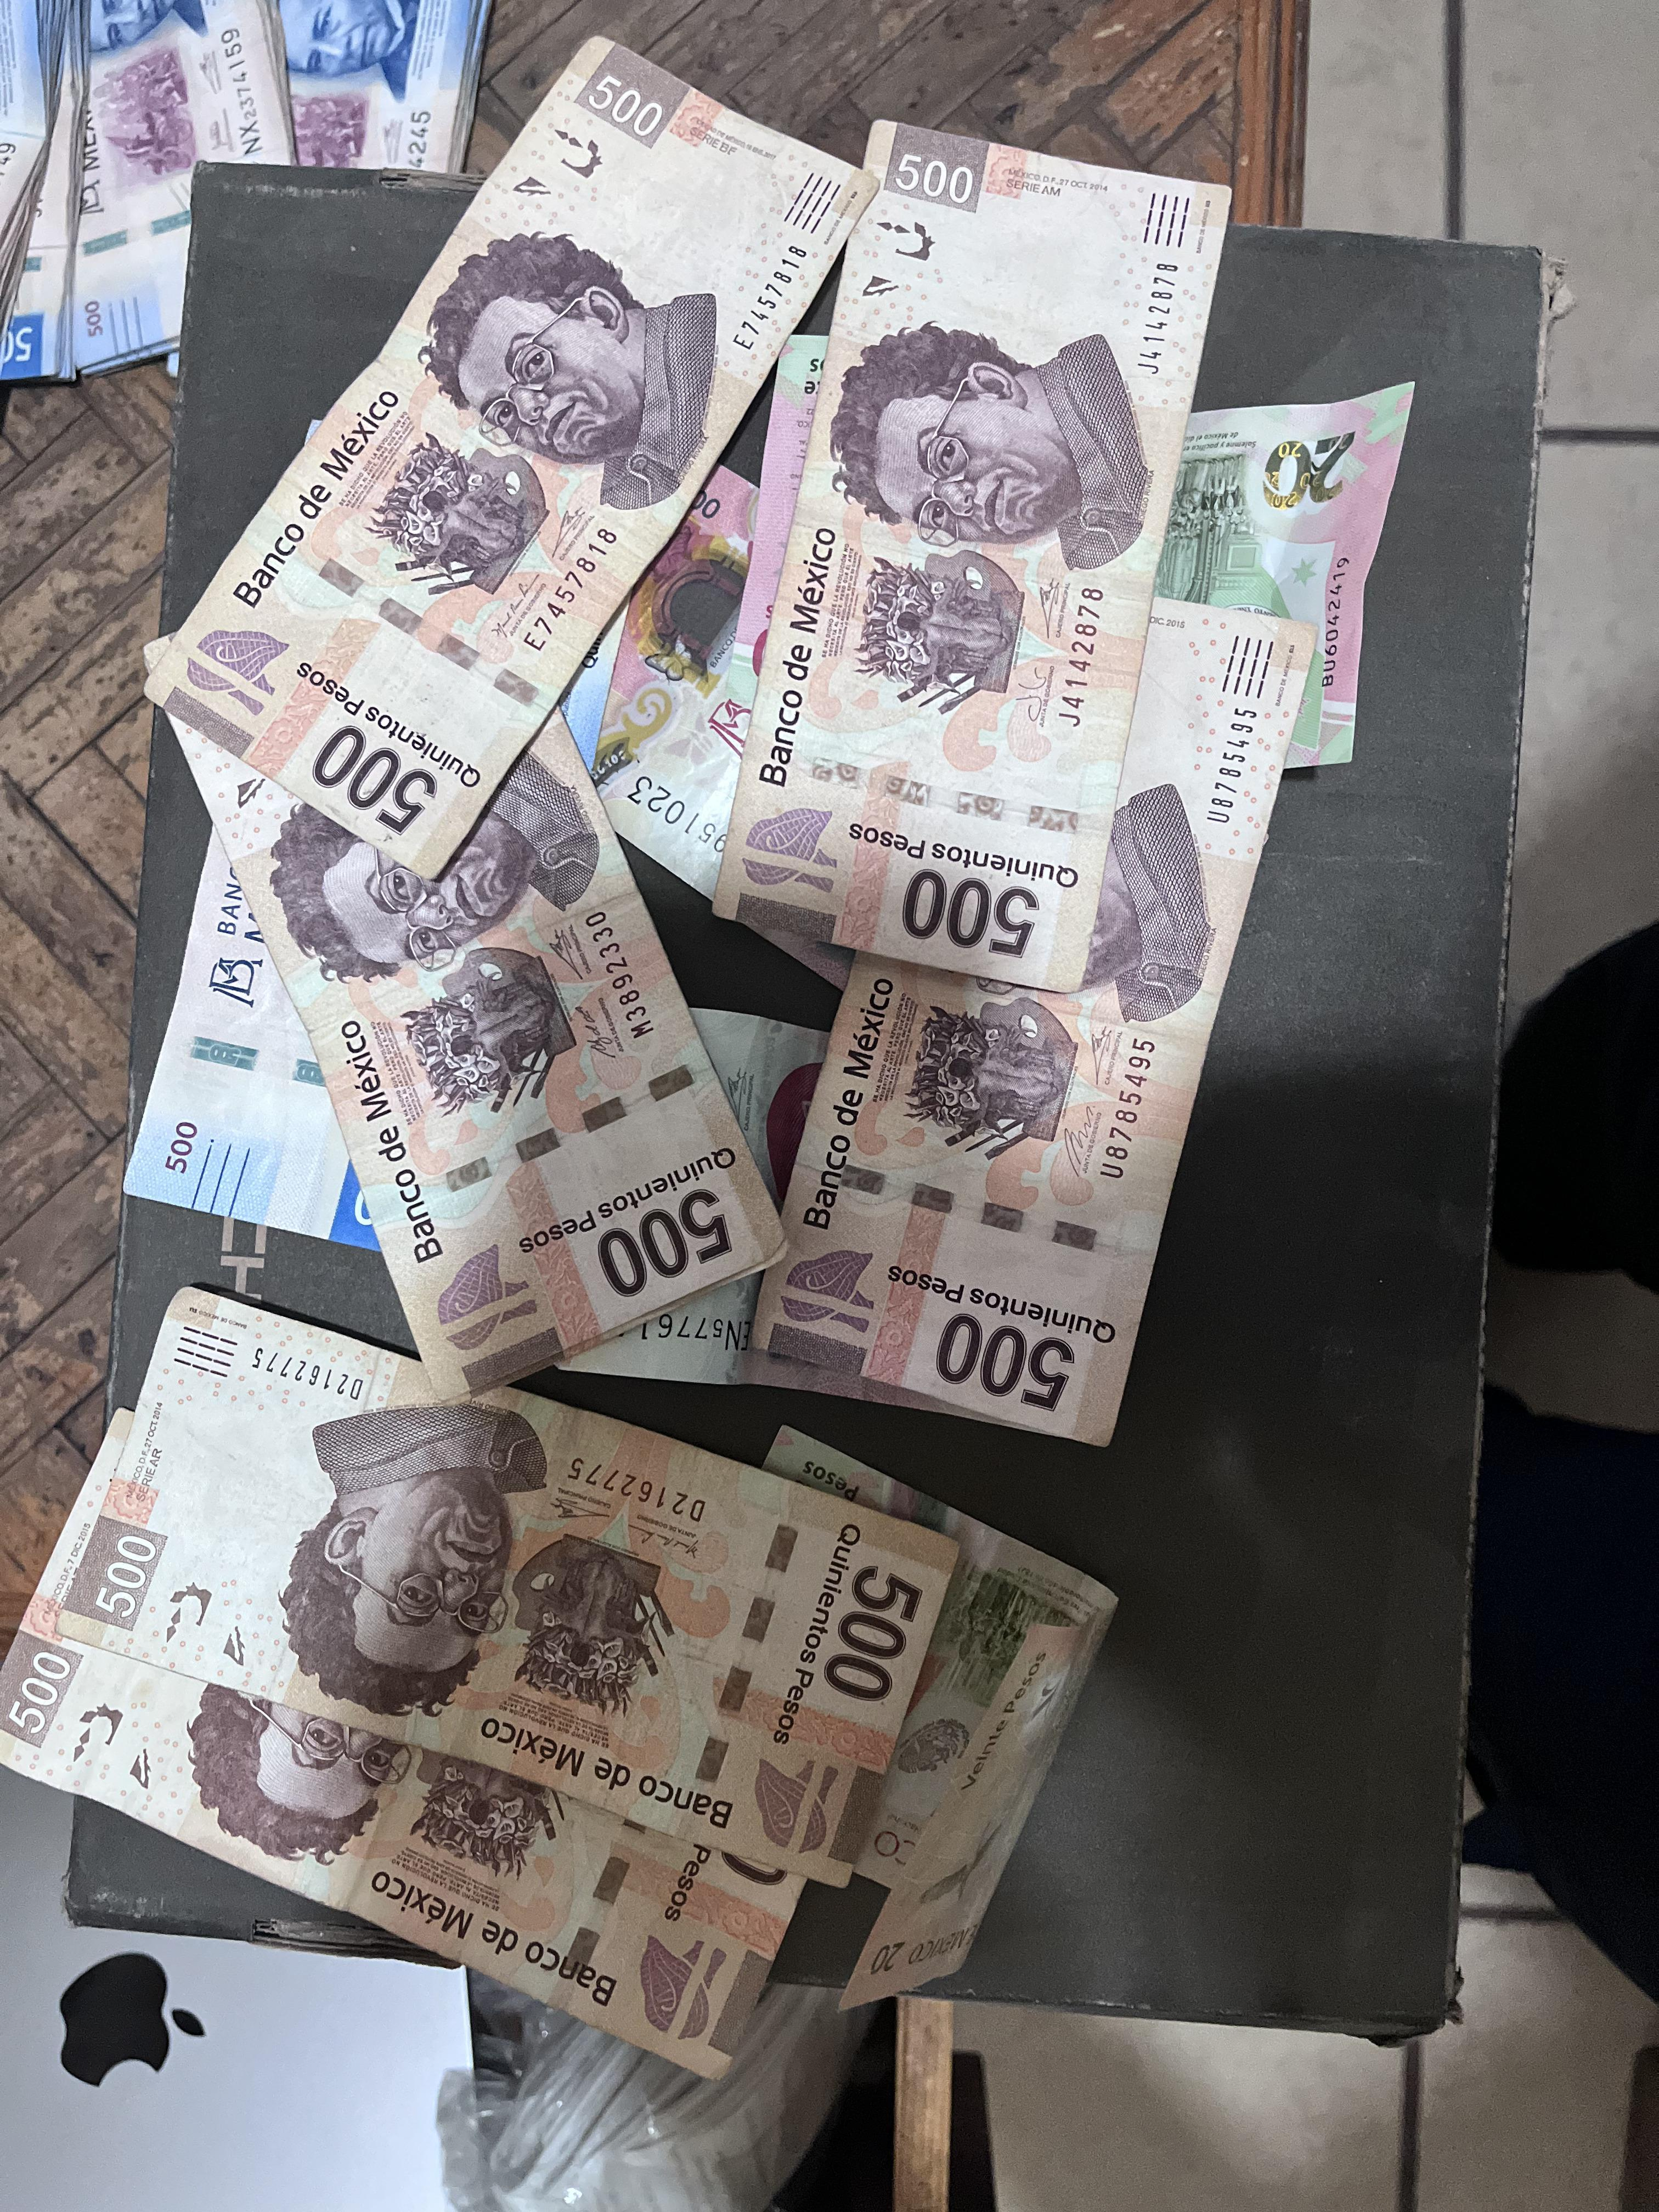20: (1138, 411, 1413, 782)
500: (132, 625, 1012, 1428), (0, 1400, 840, 2118), (209, 28, 894, 871), (71, 1268, 962, 1834), (760, 82, 1241, 1019), (767, 538, 1213, 1487)
500 nuevo: (148, 796, 380, 1266), (0, 0, 293, 354)
